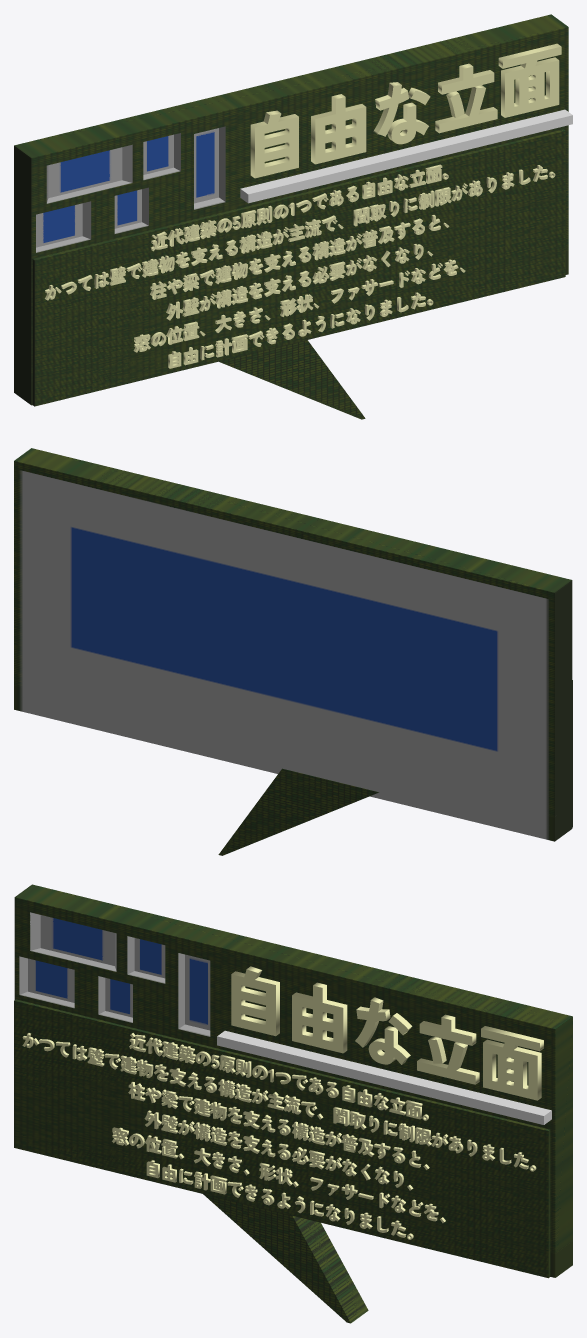
The model's file is fukidasi-ziyuunaritumen.glb.
3 renders of one model, top to bottom at view 1: azimuth 30°, elevation 25°; view 2: azimuth 150°, elevation 25°; view 3: azimuth 330°, elevation 25°, orthographic.
Parts seen in each view (by area): view 1: 立方体.004, 立方体.002, 立方体.006, テキスト, テキスト.003, 立方体, 立方体.003, テキスト.002, テキスト.001, 立方体.001, 立方体.005; view 2: 立方体, 立方体.004, 立方体.005, 立方体.001; view 3: 立方体.002, 立方体.004, 立方体.006, テキスト, 立方体, テキスト.003, テキスト.002, 立方体.003, テキスト.001, 立方体.001, 立方体.005.
Boxes of the visible parts, <box> form: 立方体.004: <box>14,27,568,405</box>; 立方体.002: <box>36,129,565,388</box>; 立方体.006: <box>32,130,564,406</box>; テキスト: <box>45,165,555,368</box>; テキスト.003: <box>251,43,561,172</box>; 立方体: <box>31,14,568,404</box>; 立方体.003: <box>240,109,572,203</box>; テキスト.002: <box>250,58,559,178</box>; テキスト.001: <box>45,164,552,366</box>; 立方体.001: <box>255,340,365,419</box>; 立方体.005: <box>219,343,299,391</box>; 立方体: <box>14,448,572,839</box>; 立方体.004: <box>14,461,572,841</box>; 立方体.005: <box>218,768,369,855</box>; 立方体.001: <box>307,775,378,805</box>; 立方体.002: <box>14,1049,549,1278</box>; 立方体.004: <box>14,884,572,1276</box>; 立方体.006: <box>14,999,550,1277</box>; テキスト: <box>22,1033,536,1239</box>; 立方体: <box>19,912,572,1277</box>; テキスト.003: <box>231,966,543,1099</box>; テキスト.002: <box>234,971,543,1100</box>; 立方体.003: <box>217,1030,551,1124</box>; テキスト.001: <box>23,1033,533,1238</box>; 立方体.001: <box>265,1214,357,1323</box>; 立方体.005: <box>203,1194,368,1322</box>.
Size of the model in its own units: 11.12 by 6.76 by 0.9065.
Materials: 9 (6 with a texture image).
